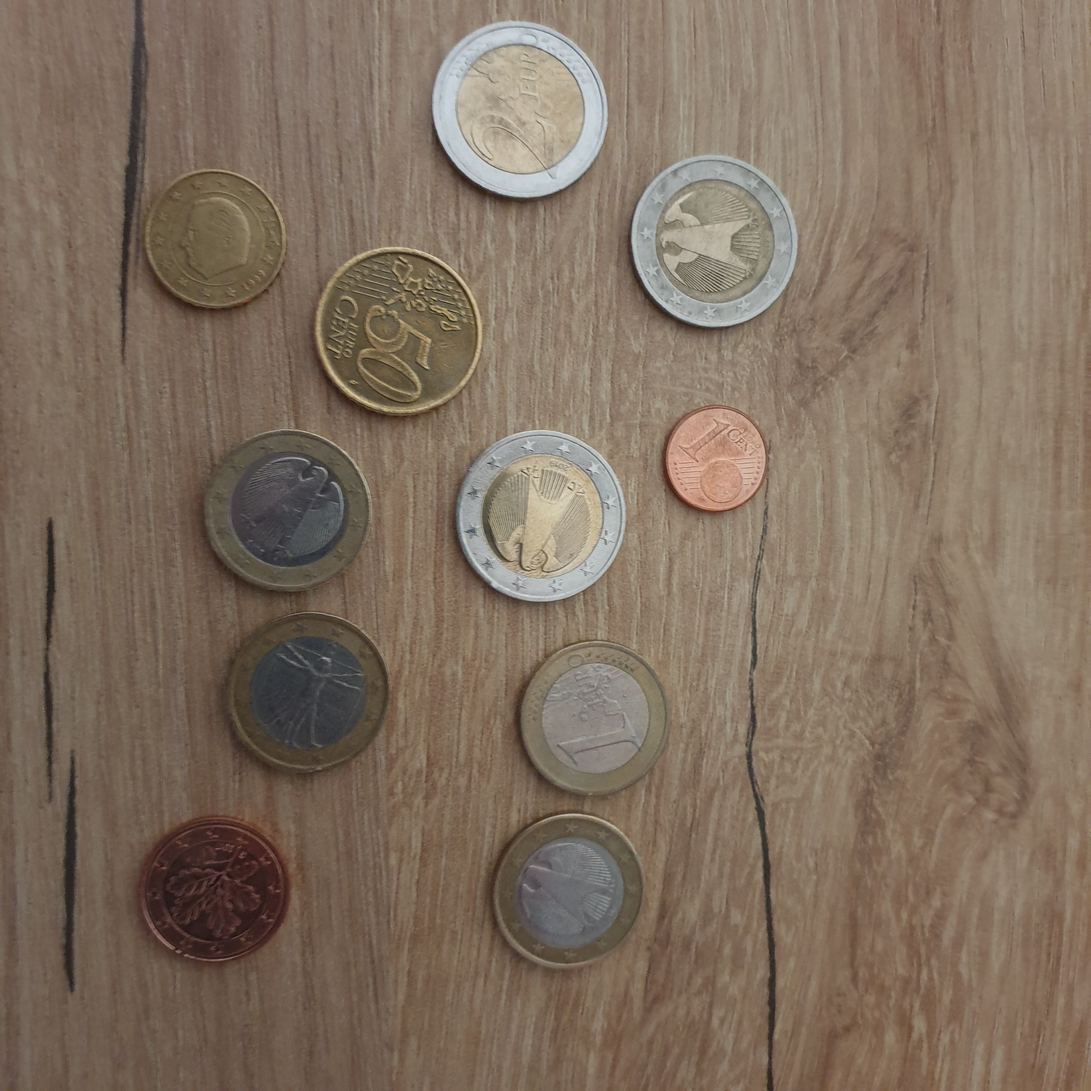1 cent: (660, 396, 771, 516)
1 euro: (227, 607, 391, 781), (204, 428, 368, 601), (511, 631, 673, 805), (487, 808, 648, 981)
10 cent: (143, 163, 289, 316)
2 euro: (426, 24, 604, 210), (625, 154, 803, 339), (449, 425, 627, 610)
5 cent: (132, 819, 295, 963)
50 cent: (315, 234, 487, 420)
